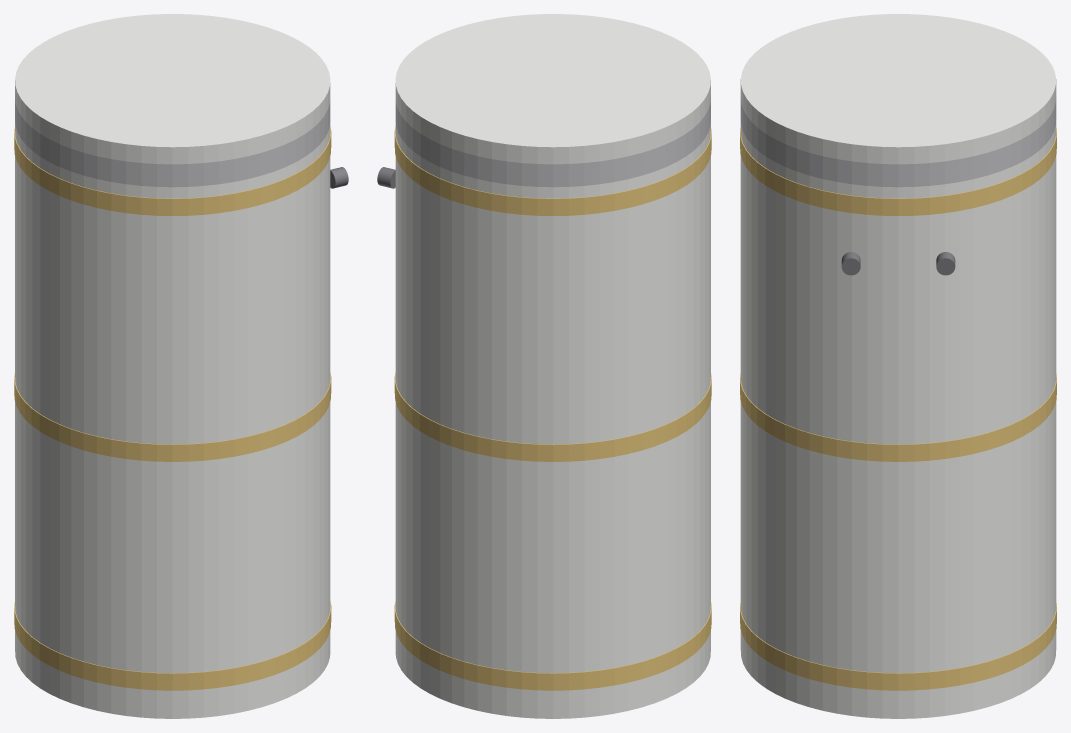
File: sci05_survey_telescope_m.glb
3 renders of one model, left to right at view 1: azimuth 30°, elevation 25°; view 2: azimuth 150°, elevation 25°; view 3: azimuth 270°, elevation 25°, orthographic.
Parts seen in each view (by area): view 1: tube, door, tube_bands, baffle; view 2: tube, door, tube_bands, baffle; view 3: tube, door, tube_bands, baffle, star_trackers.
Boxes of the visible parts, left/top/right/bottom form: tube: left=15, top=120, right=330, bottom=718; door: left=15, top=14, right=330, bottom=164; tube_bands: left=14, top=126, right=331, bottom=690; baffle: left=15, top=97, right=330, bottom=187; tube: left=395, top=120, right=710, bottom=718; door: left=395, top=14, right=710, bottom=164; tube_bands: left=394, top=126, right=711, bottom=690; baffle: left=395, top=97, right=710, bottom=187; tube: left=740, top=119, right=1056, bottom=718; door: left=740, top=14, right=1056, bottom=164; tube_bands: left=740, top=128, right=1056, bottom=690; baffle: left=740, top=96, right=1056, bottom=187; star_trackers: left=841, top=252, right=955, bottom=275.
Bounding box in the file's own units: 2.6 × 5 × 2.51.
